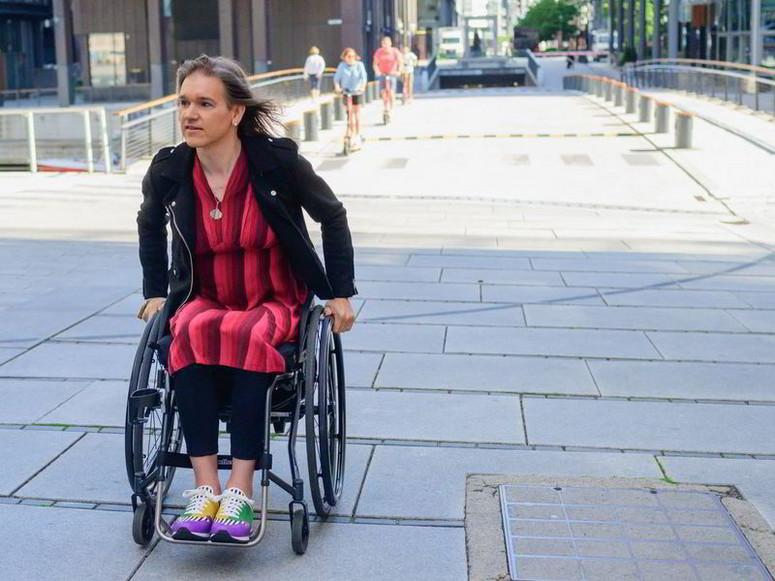wheelchair: (124, 55, 359, 555)
